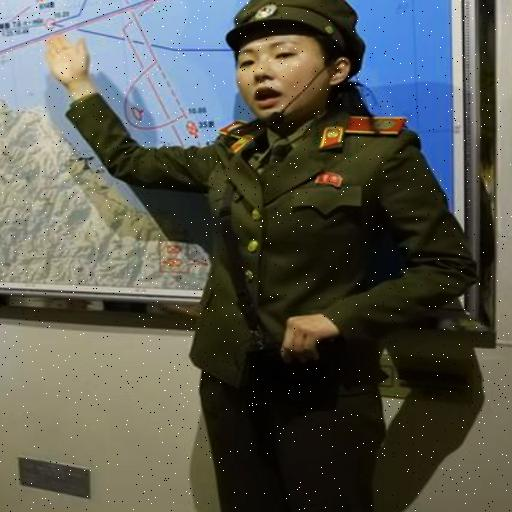north army: (43, 10, 492, 505)
